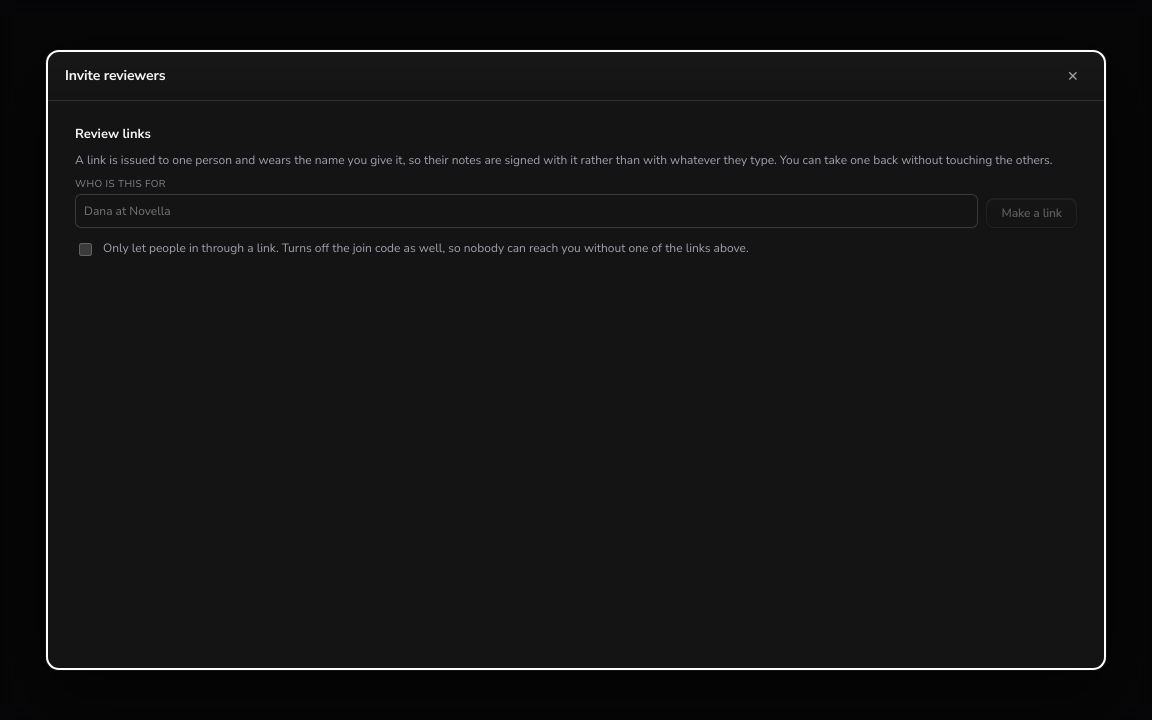
Test: retains the one-time link after a failed withdrawal
Step 1. Type "Test reviewer" into the field labelled "Who is this for" → (527, 211), box [75, 194, 978, 228]
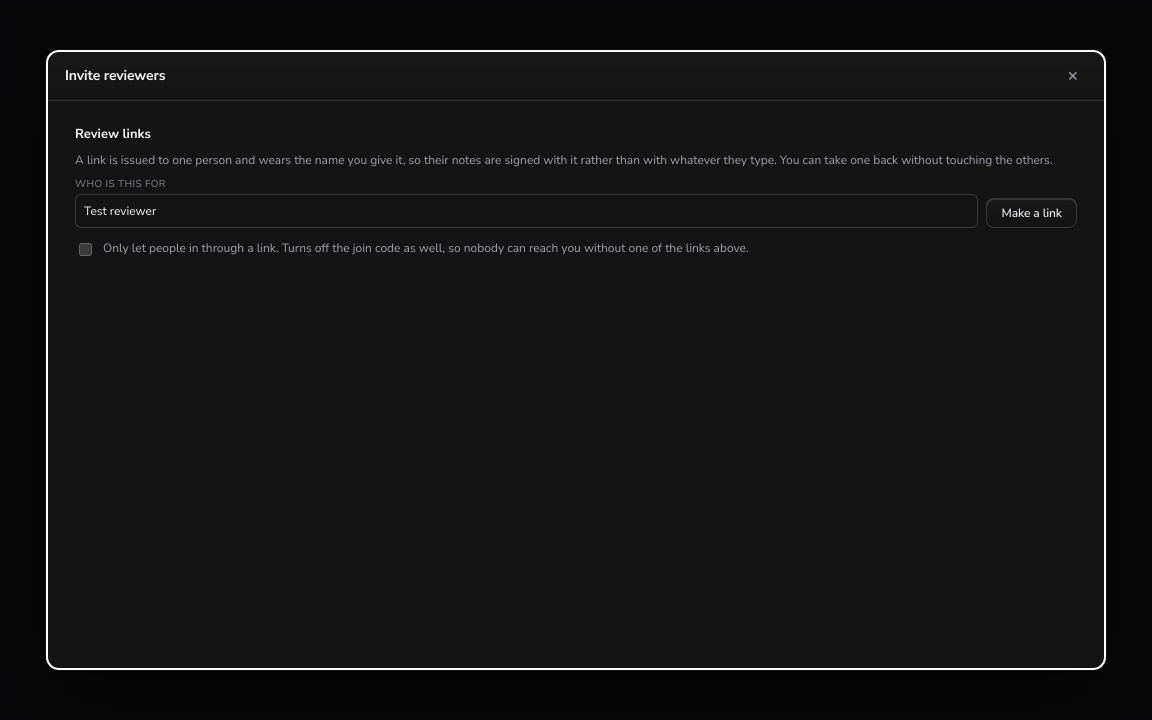
Step 2. Click the button "Make a link" → (1032, 213), box [986, 198, 1077, 228]
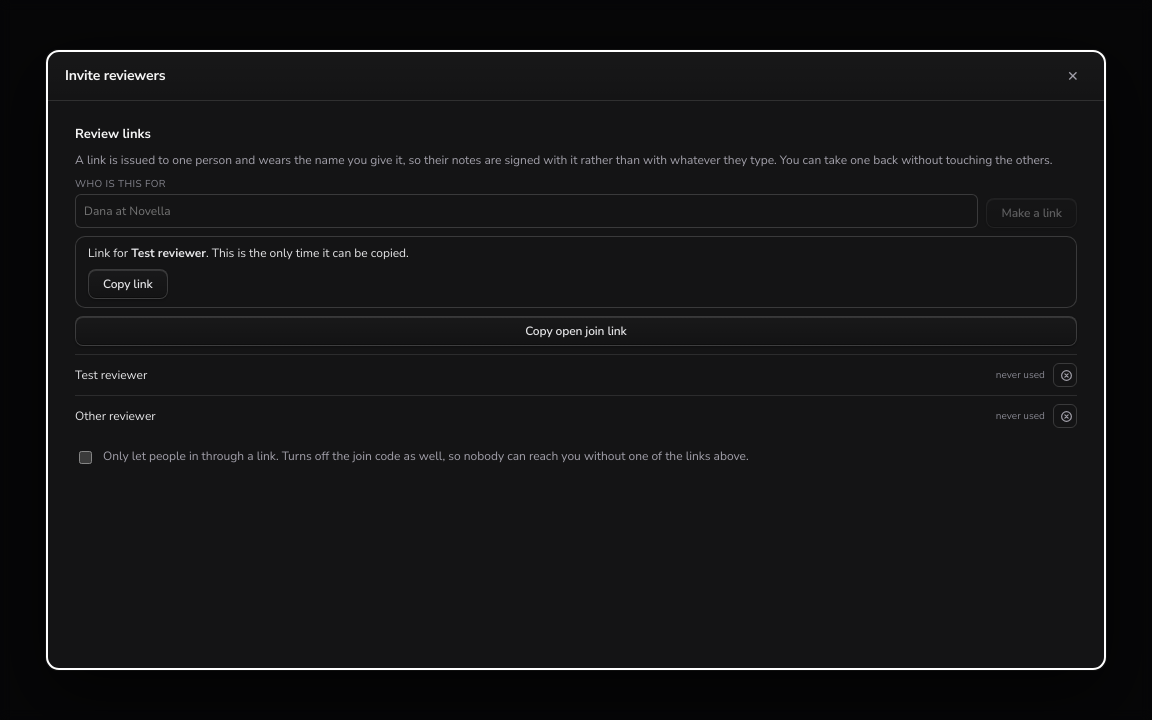
Expected: the button "Copy link" is shown, [88, 269, 168, 299]
Step 3. Click the button named "Withdraw the link for Test reviewer" → (1065, 375), box [1053, 363, 1077, 387]
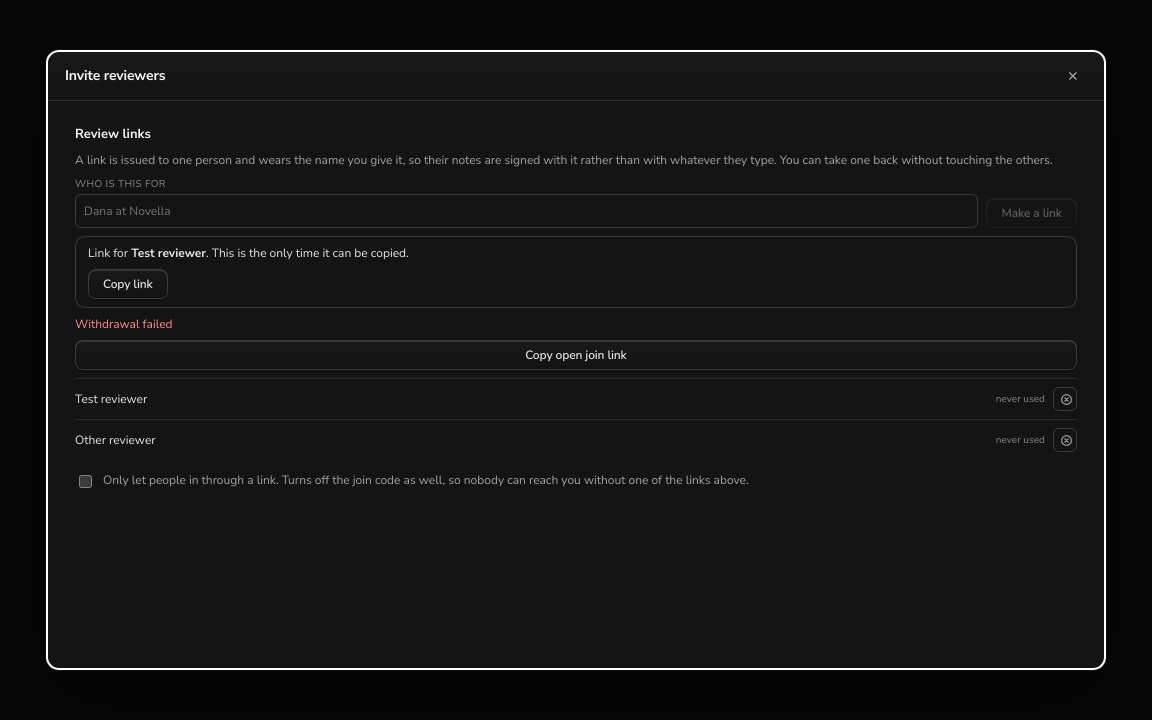
Expected: the button "Copy link" is shown, [88, 269, 168, 299]
Expected: the message "Withdrawal failed" is shown, [75, 316, 173, 332]
